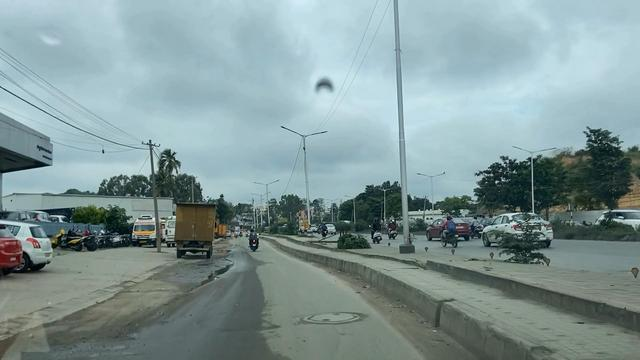RoadDamages: (58, 329, 146, 360), (292, 303, 370, 332)
